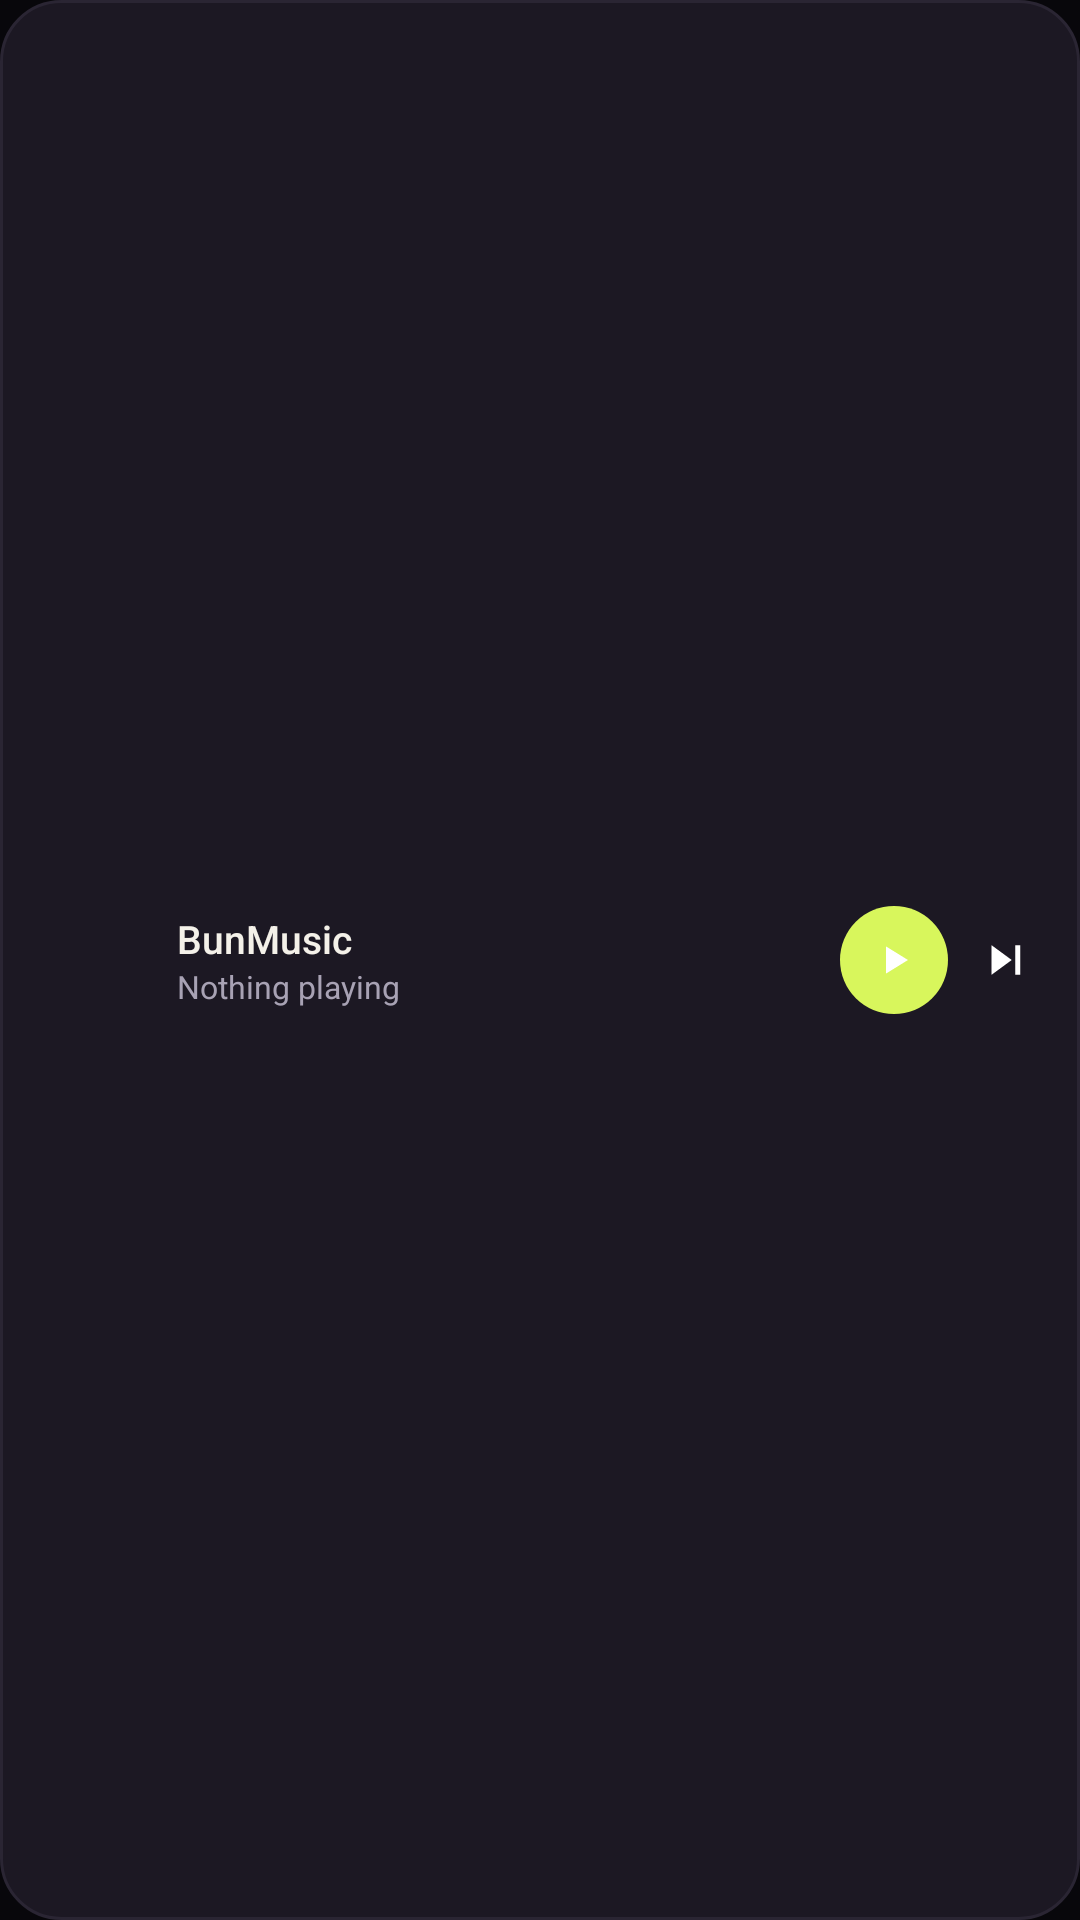

Screen size 1080 × 1920. Icon name, then its center in pixels as [x,y]:
Next: [1006,960]
Play or pause: [894,960]
